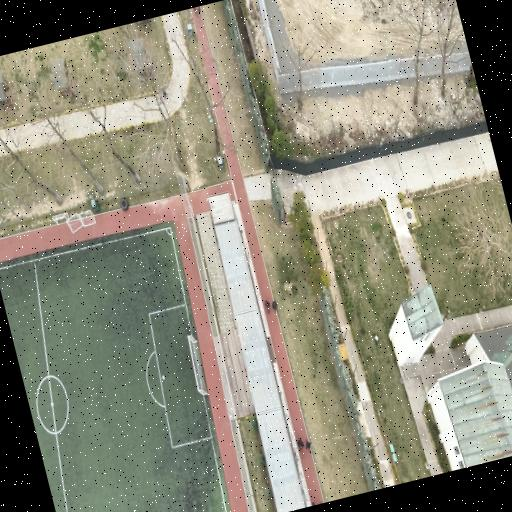person: (310, 500, 318, 510), (296, 439, 303, 449), (264, 300, 269, 313), (305, 440, 310, 452), (271, 301, 276, 311), (318, 502, 324, 508), (193, 8, 196, 15), (197, 7, 200, 13)
